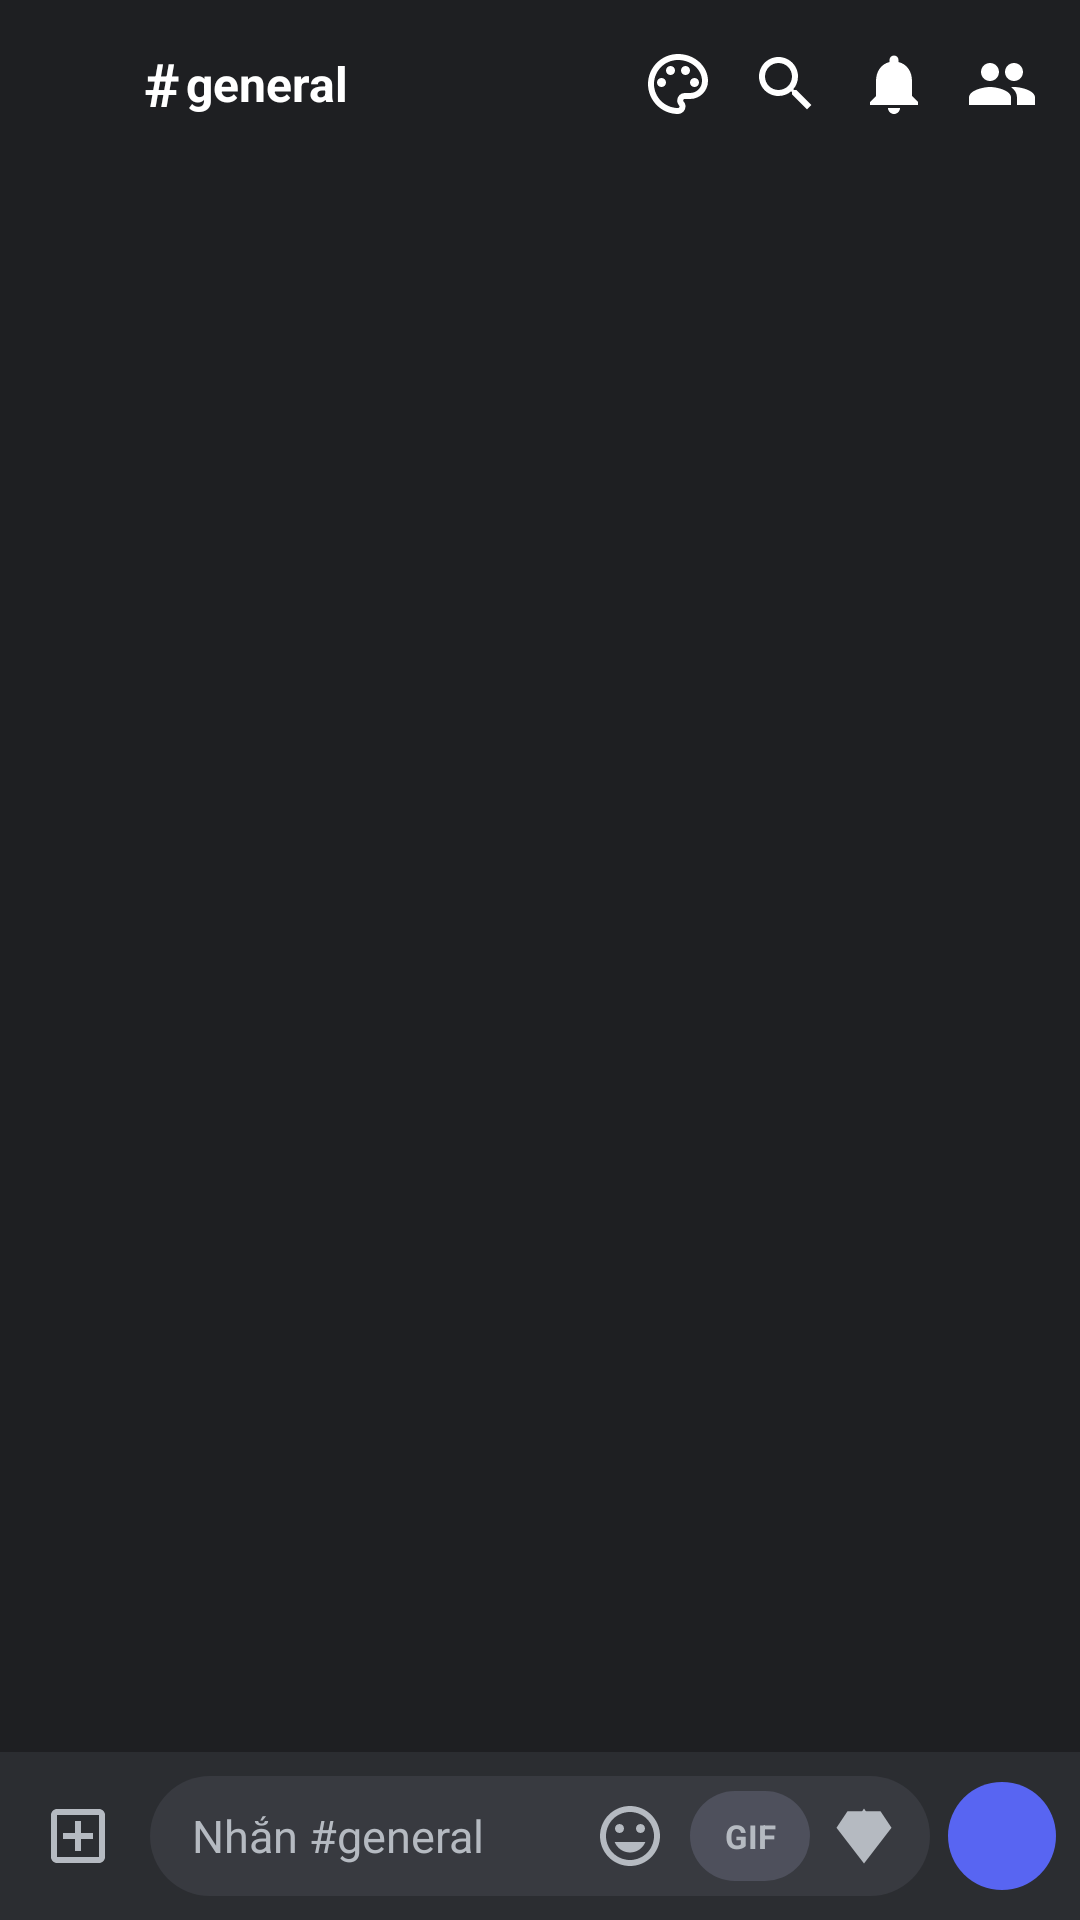

Where to tap for icons on this 1080px×1920px app screen, as (x=x, y=y):
attach: (x=78, y=1836)
emoji: (x=630, y=1836)
gem: (x=864, y=1836)
members list: (x=1002, y=84)
notifications: (x=894, y=84)
palette: (x=678, y=84)
search: (x=785, y=83)
